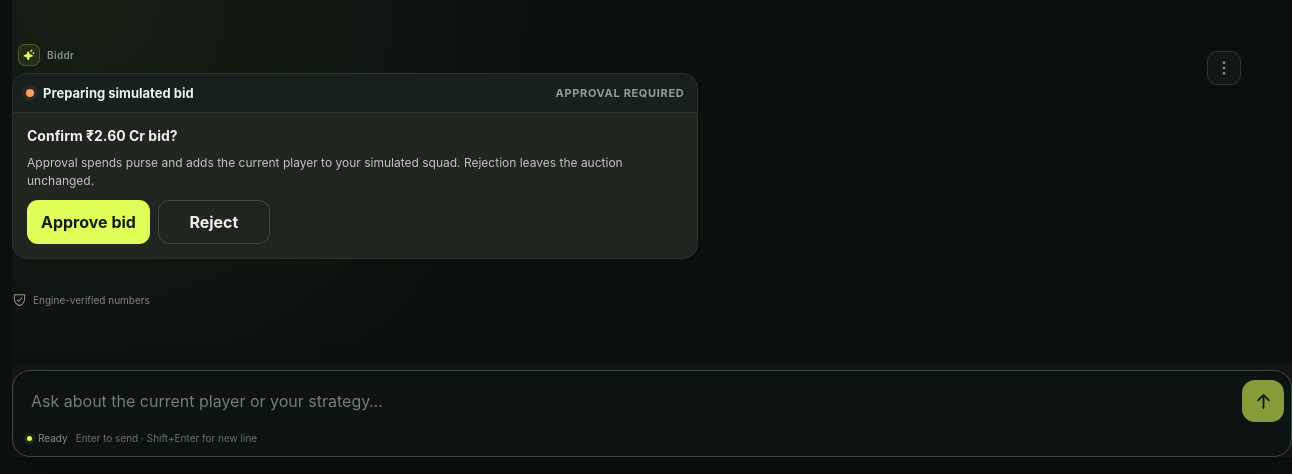
Copilot chat › submits an approval decision when choosing Reject
Click the button "Reject" at (214, 222), box [158,200,270,244]
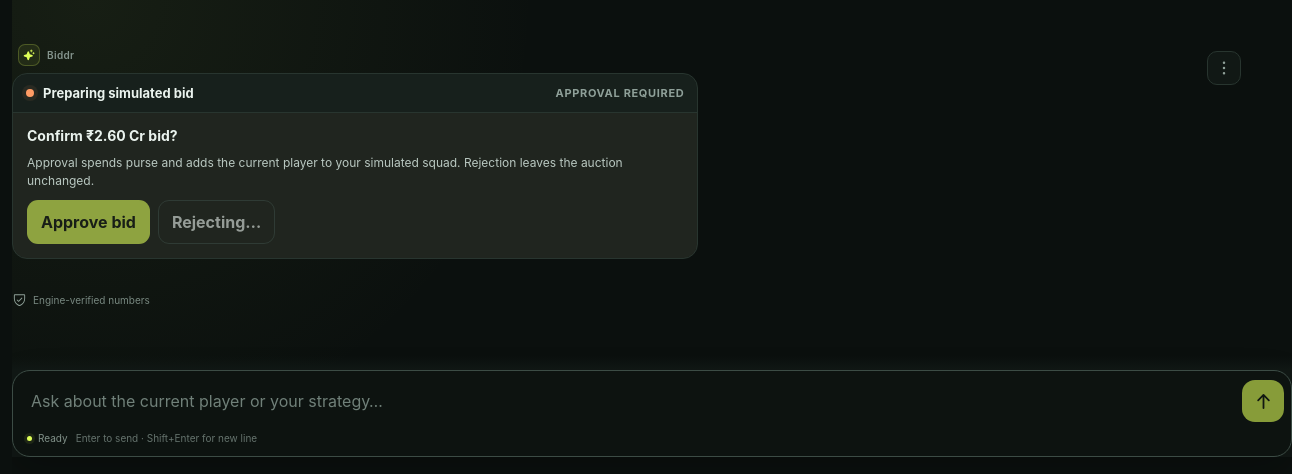
Expected: the button "Rejecting…" is disabled, [158,200,275,244]
